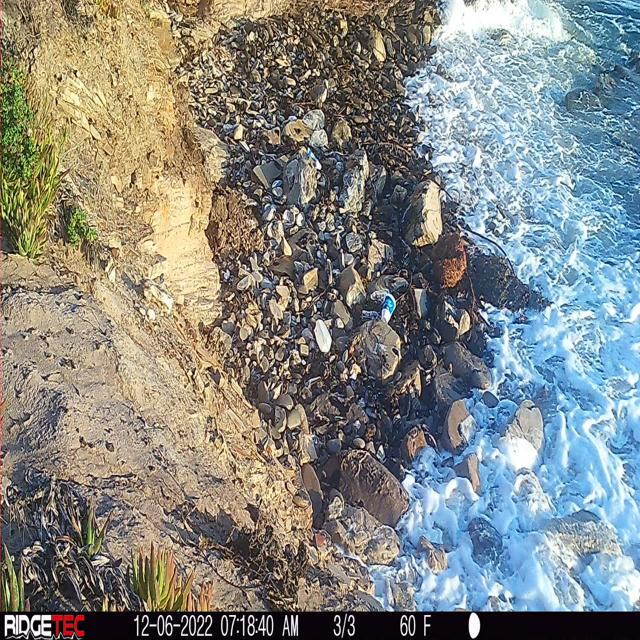bird: (303, 71, 332, 111)
